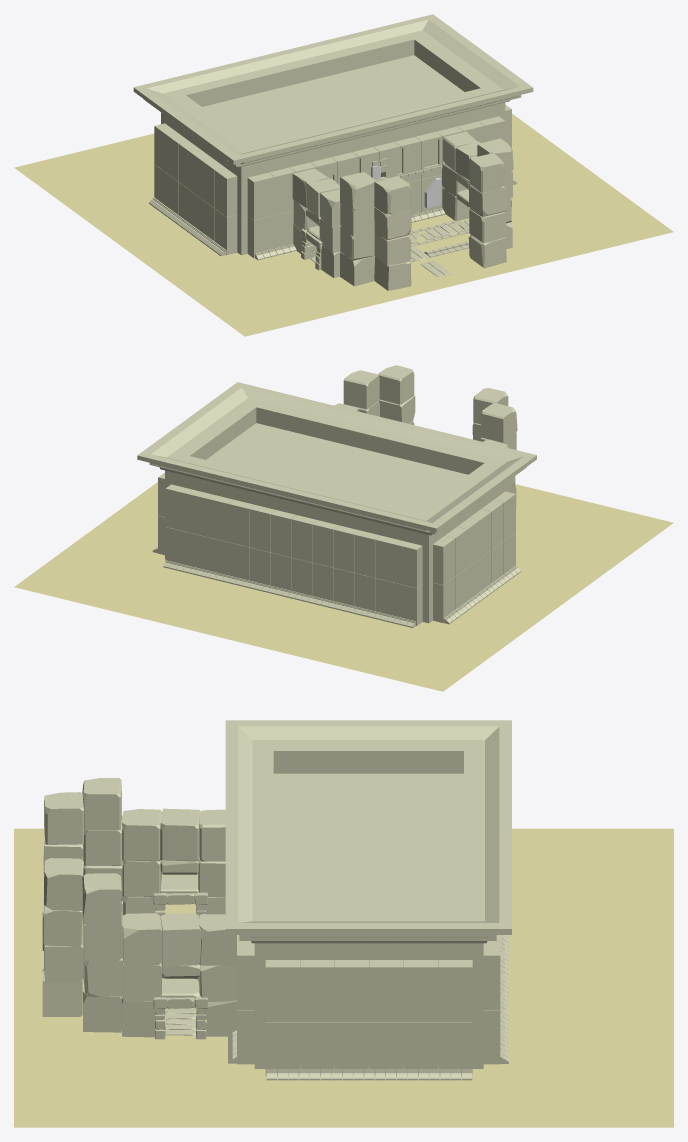
The picture shows the model from 3 angles, top to bottom: view 1: azimuth 30°, elevation 25°; view 2: azimuth 150°, elevation 25°; view 3: azimuth 270°, elevation 25°; orthographic projection. The views are drawn at different scales.
Visible parts, largest first — view 1: Plane.001, Cube, Cube.007, Cube.067, Cube.061, Cube.068, Cube.025, Cube.028, Cube.024, Cube.023, Cube.063, Cube.031 (+4 smaller); view 2: Plane.001, Cube, Cube.060, Cube.061, Cube.068, Cube.067, Cube.059, Cube.063, Cube.065; view 3: Plane.001, Cube, Cube.061, Cube.068, Cube.067, Cube.028, Cube.031, Cube.025, Cube.030, Cube.063, Cube.024, Cube.060 (+7 smaller).
Part boxes in pixels (box(x1,y1,x2,y2)): Plane.001: box(14, 114, 673, 336); Cube: box(133, 14, 533, 255); Cube.007: box(247, 116, 505, 258); Cube.067: box(374, 153, 506, 290); Cube.061: box(154, 104, 511, 254); Cube.068: box(340, 138, 513, 286); Cube.025: box(292, 131, 476, 207); Cube.028: box(306, 141, 480, 217); Cube.024: box(293, 162, 466, 229); Cube.023: box(293, 187, 469, 255); Cube.063: box(149, 180, 517, 256); Cube.031: box(320, 155, 477, 227); Plane.001: box(14, 482, 673, 691); Cube: box(137, 382, 536, 623); Cube.060: box(165, 484, 422, 625); Cube.061: box(158, 472, 515, 623); Cube.068: box(343, 370, 517, 507); Cube.067: box(378, 365, 508, 440); Cube.059: box(163, 560, 415, 627); Cube.063: box(152, 547, 521, 624); Cube.065: box(150, 463, 430, 532); Plane.001: box(14, 828, 673, 1127); Cube: box(225, 720, 511, 1068); Cube.061: box(265, 960, 472, 1076); Cube.068: box(82, 778, 122, 1032); Cube.067: box(42, 792, 83, 1016); Cube.028: box(160, 808, 201, 966); Cube.031: box(122, 809, 162, 966); Cube.025: box(198, 809, 236, 965); Cube.030: box(122, 860, 161, 1001); Cube.063: box(266, 1066, 472, 1080); Cube.024: box(198, 857, 236, 1001); Cube.060: box(483, 935, 500, 1064).
Bounding box in the file's own units: 13705 × 3385 × 12779.
